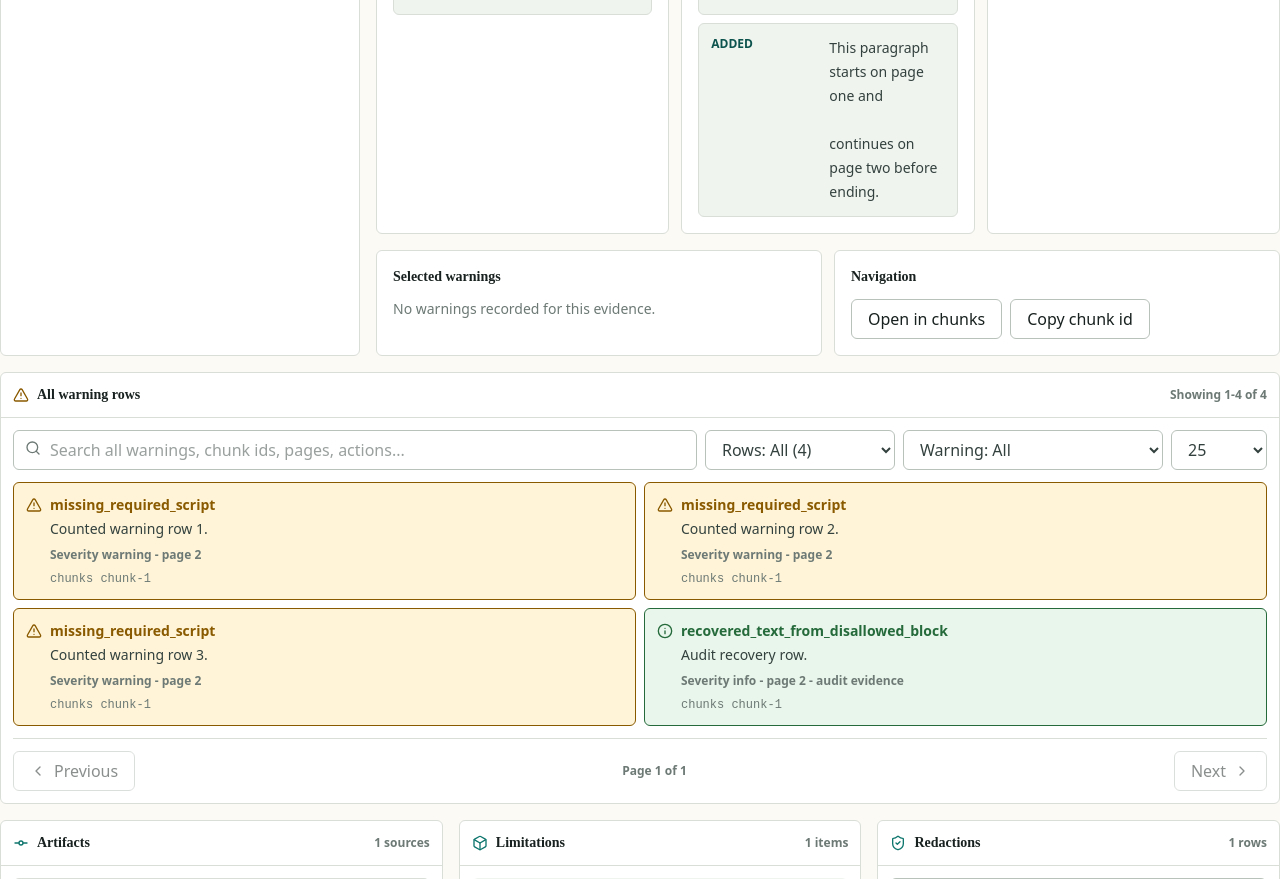
Test: EvidenceInspector › keeps preview decision tab counts separate from full counted warning rows
This screenshot has width=1280, height=879.
(page scrolled)
Select "Counted (3)" in the 1st dropdown named "Warning row scope" at (800, 450), box [705,430,895,470]
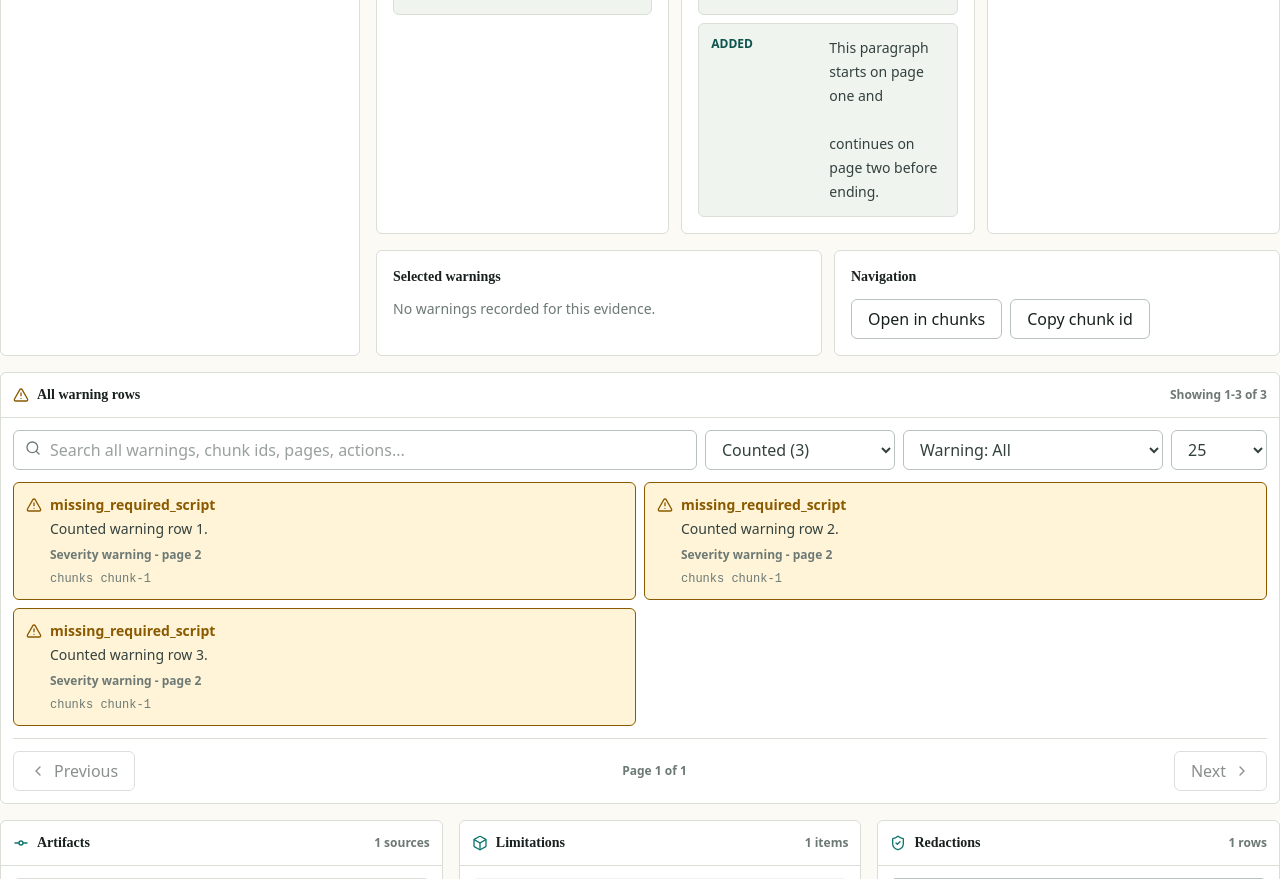
Now the text "Showing 1-3 of 3" is shown, box [1170,387,1267,403]
Now the text "Audit recovery row." is gone
